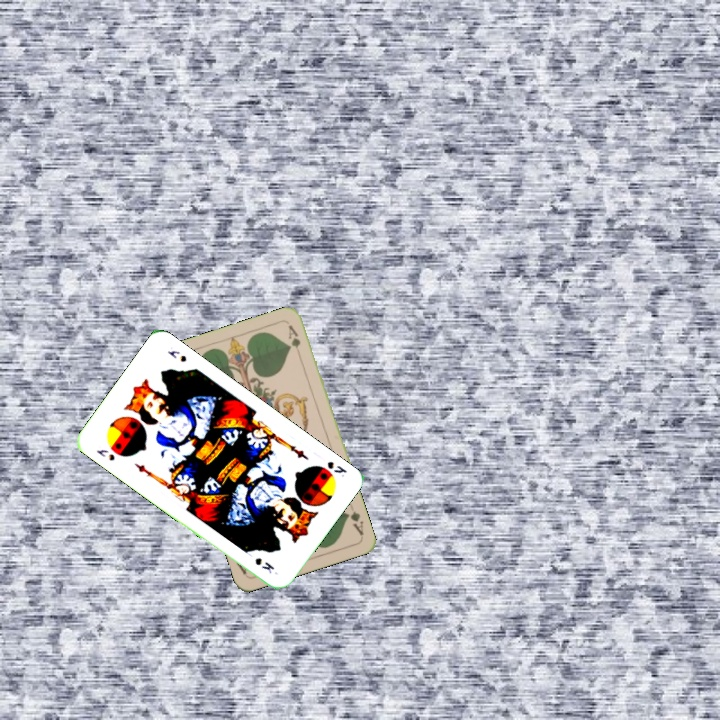GA: (342, 507, 366, 538)
SK: (323, 457, 350, 480), (92, 445, 117, 463)
